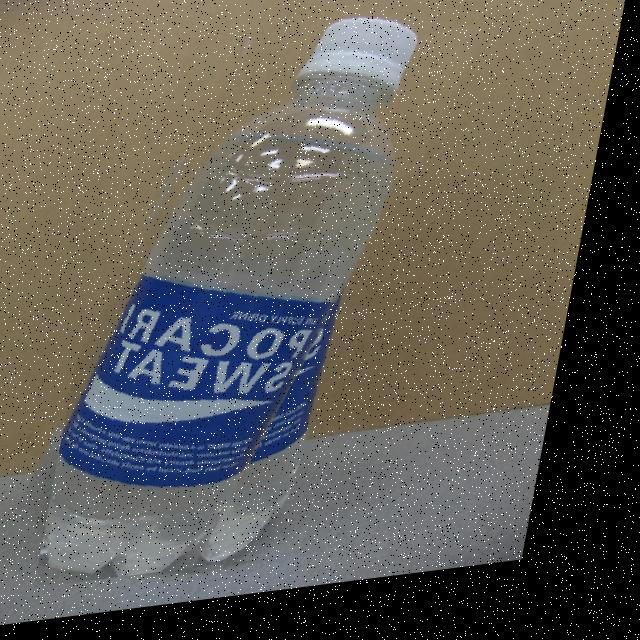litter: (57, 0, 460, 592)
